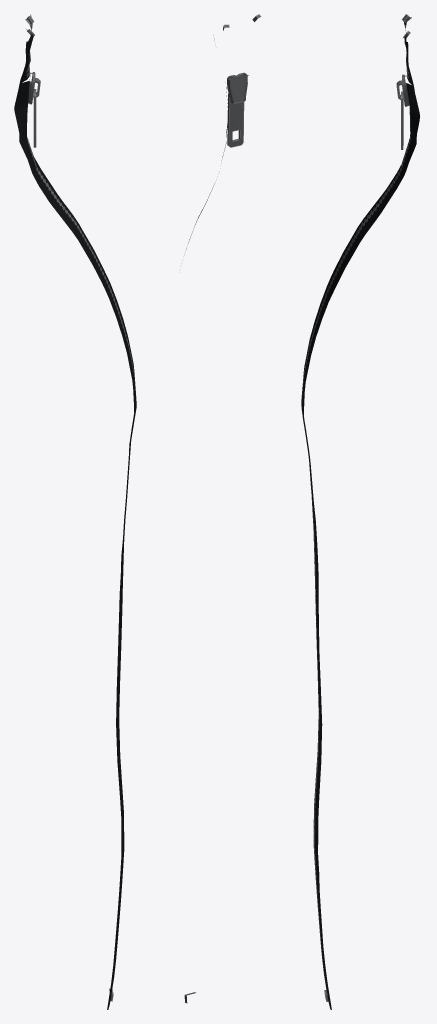
File: aporia_jumpsuit_zipper_v2.glb
3 renders of one model, left to right at view 1: azimuth 90°, elevation 25°; view 2: azimuth 210°, elevation 25°; view 3: azimuth 270°, elevation 25°, orthographic. The views are drawn at different scales.
Visible parts, largest first — view 1: zip_LOD0; view 2: zip_LOD0; view 3: zip_LOD0.
Boxes of the visible parts, box(x1,y1,x2,y2) form: zip_LOD0: box(14, 14, 136, 1009); zip_LOD0: box(184, 14, 261, 1003); zip_LOD0: box(301, 14, 419, 1009).
Size of what is drawn, in the model's own units: 0.0333 by 0.5487 by 0.0619.
1 material, 1 textured.
